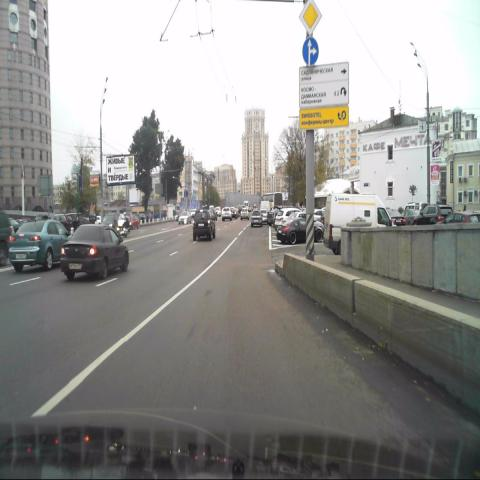2_1: (300, 0, 322, 37)
4_1_4: (302, 38, 319, 65)
